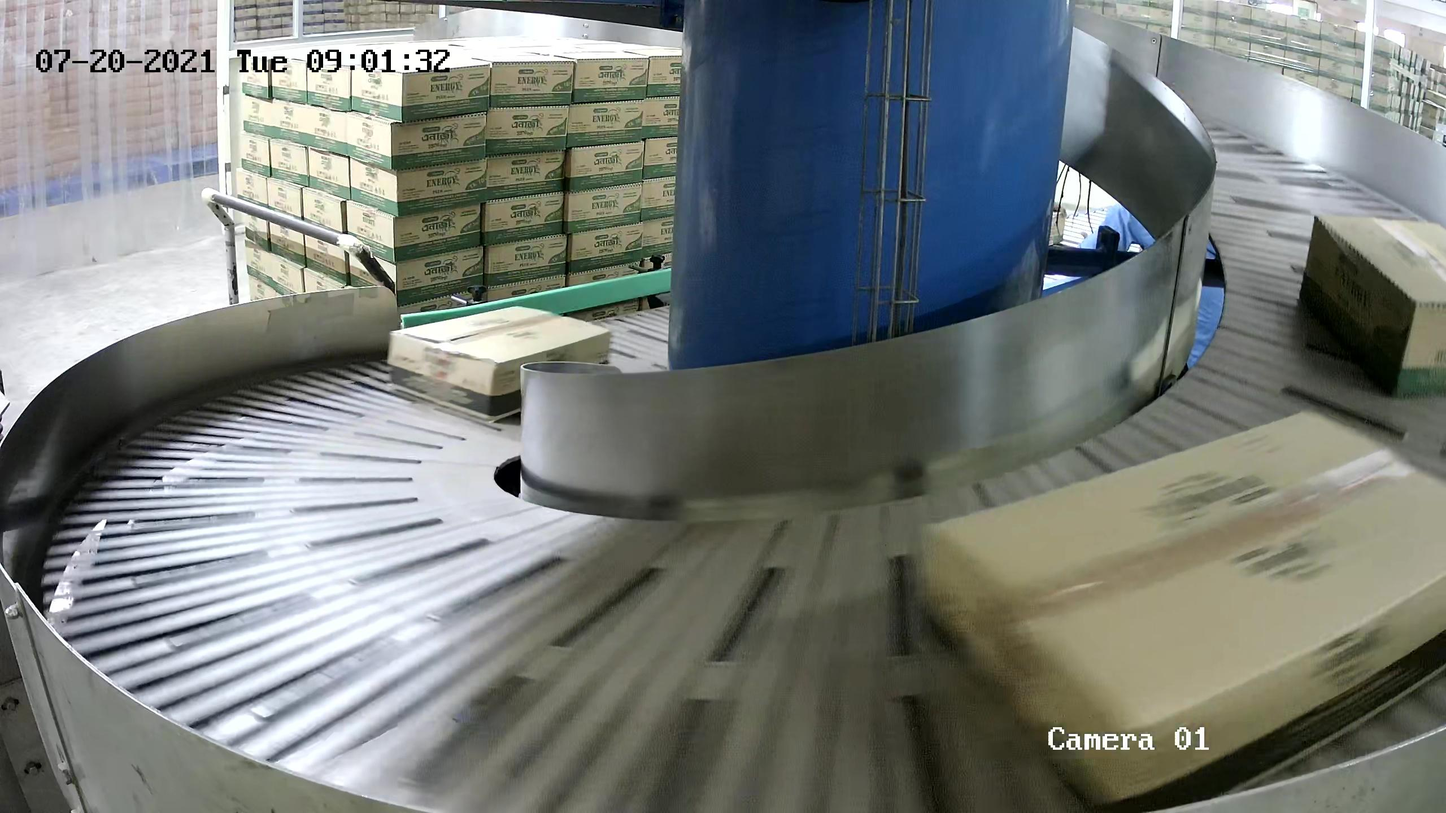Box: (915, 403, 1446, 813), (1298, 213, 1446, 400), (386, 304, 613, 424)
